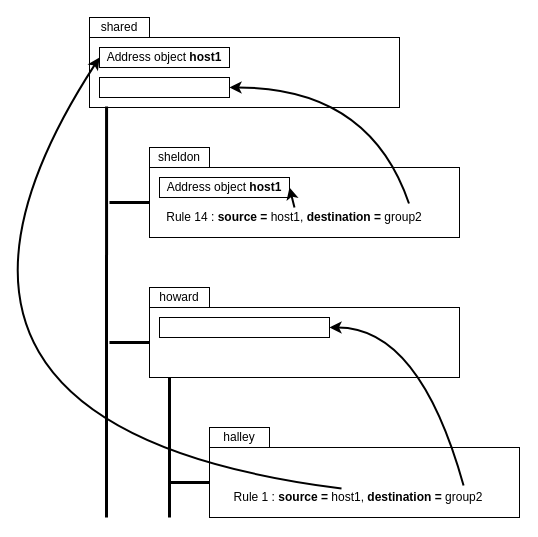
This 538x537 diagram has some shape labels left out. The shapes that lost their labels are listed below. From the top down, each one's centre as x and y in pixels, then its label:
point (164, 87): Address object group2
point (244, 327): AddressGroup object group2
